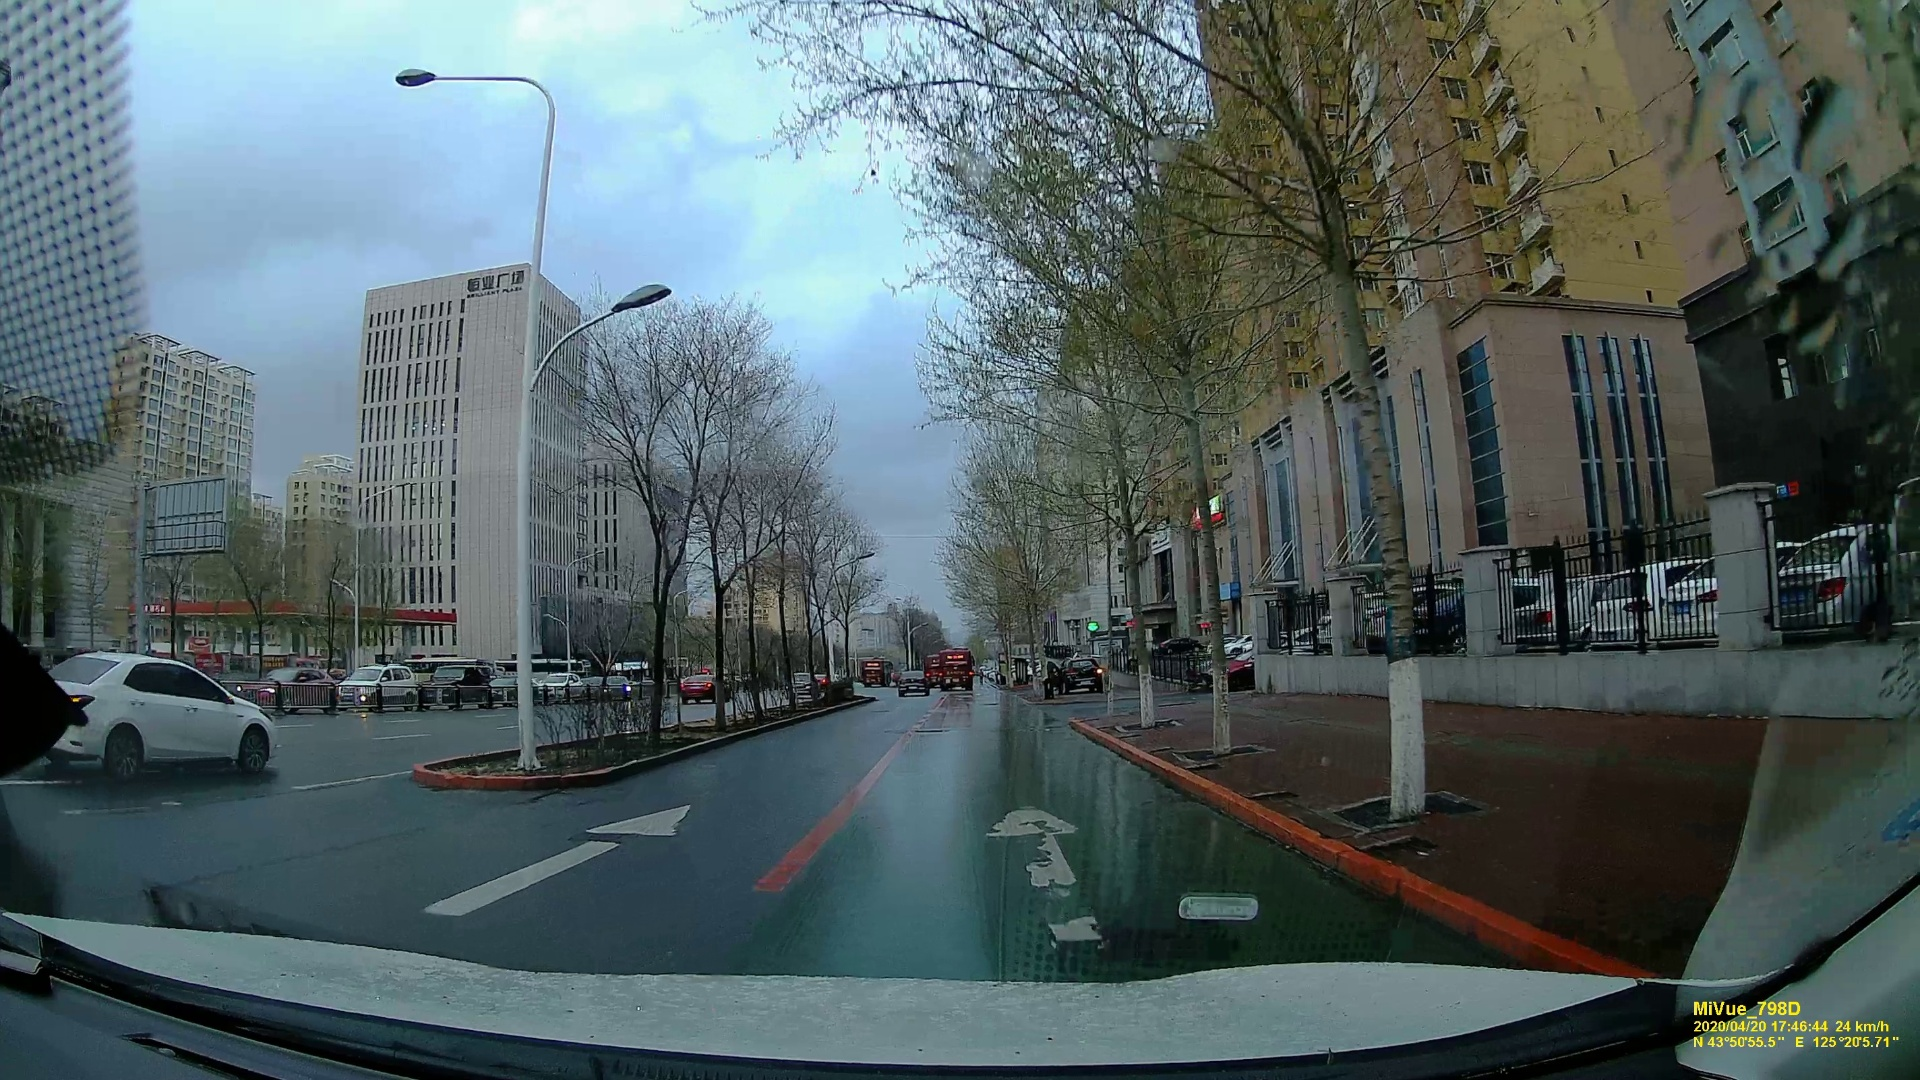bus: (938, 647, 973, 692), (858, 658, 891, 687)
vehicle: (41, 647, 272, 783), (1059, 657, 1105, 694), (680, 674, 728, 705), (895, 670, 928, 698)
